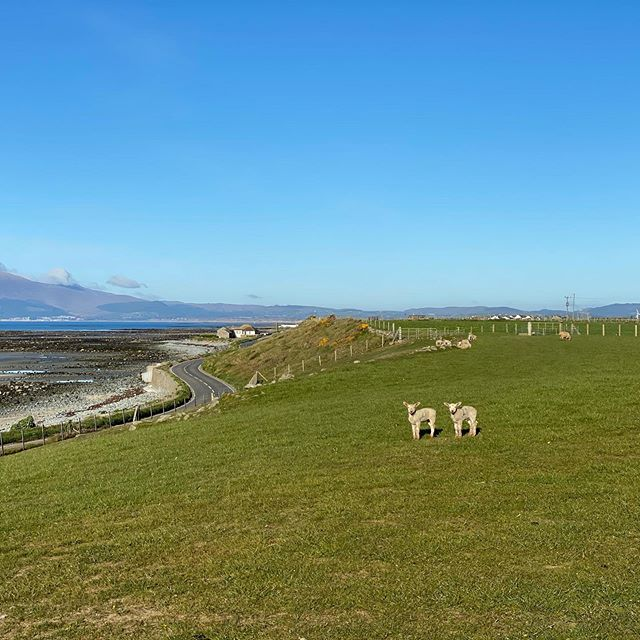animal: (394, 399, 441, 443), (438, 398, 485, 442)
grass: (5, 337, 640, 630)
sky: (1, 1, 621, 288)
